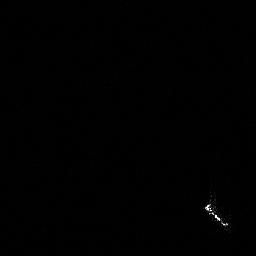ship: (201, 201, 231, 229)
